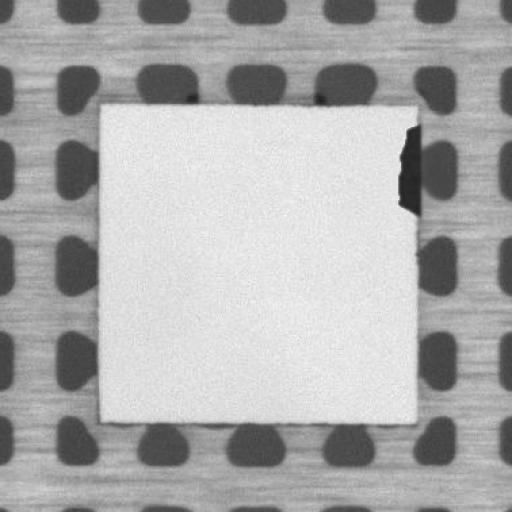DIE_BROKEN: (394, 115, 423, 223)
